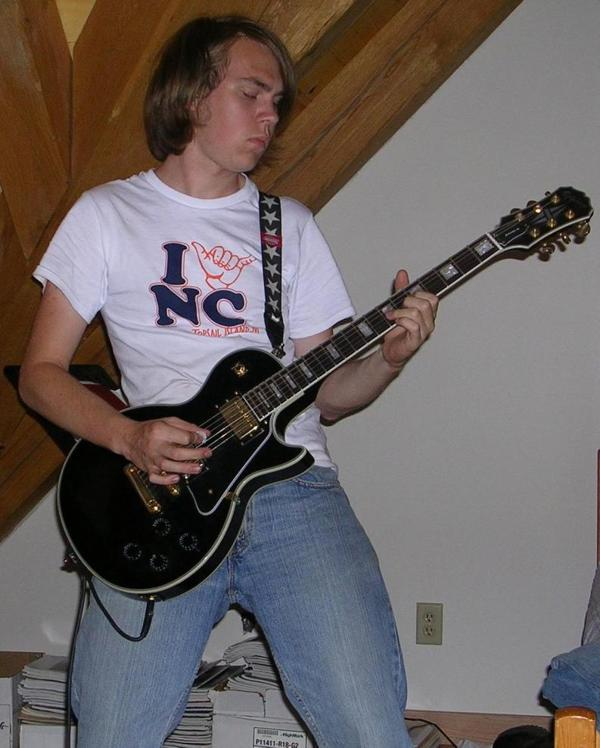person: (17, 12, 440, 745)
